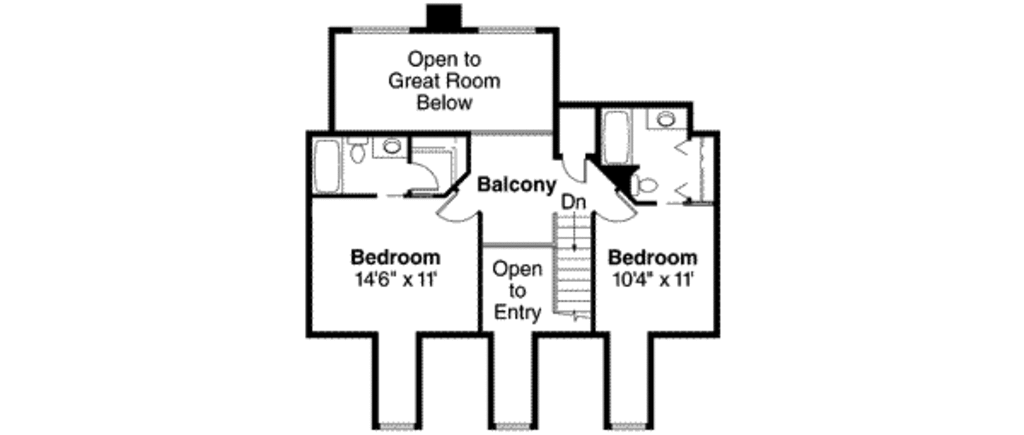door: (434, 192, 478, 225), (598, 192, 640, 226), (560, 149, 595, 188), (409, 163, 439, 195)
large_sink: (346, 132, 378, 167), (628, 173, 661, 194)
small_sink: (642, 102, 689, 133), (370, 134, 409, 161)
stairs: (552, 192, 601, 323)
tub: (599, 106, 635, 169), (309, 133, 345, 196)
window: (476, 19, 544, 40), (348, 19, 412, 37)
